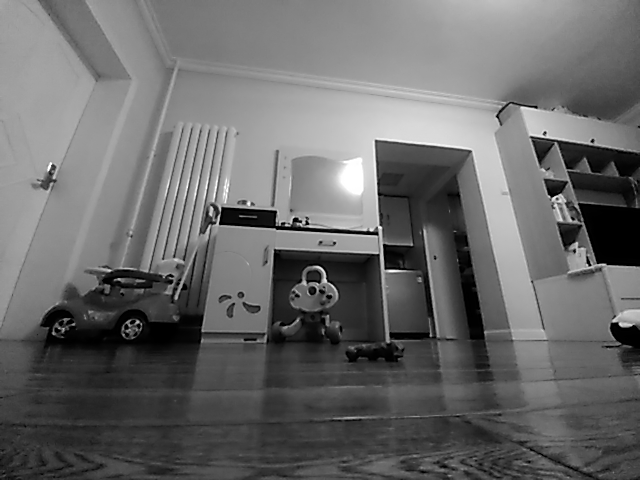pet feces: (347, 340, 404, 363)
toy: (37, 297, 187, 341), (271, 307, 345, 342)
